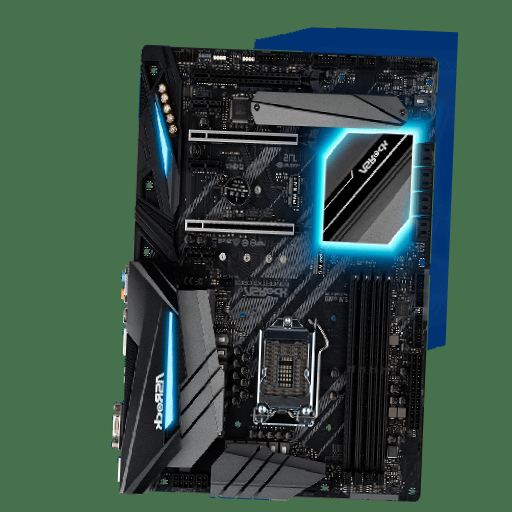CPU: (252, 314, 320, 423)
GPU: (187, 126, 319, 159), (183, 213, 317, 241), (190, 67, 324, 94)
MOTHERBOARD: (114, 43, 436, 504)
RAM: (340, 264, 395, 485)
SSD: (284, 173, 302, 212), (310, 244, 329, 278)
